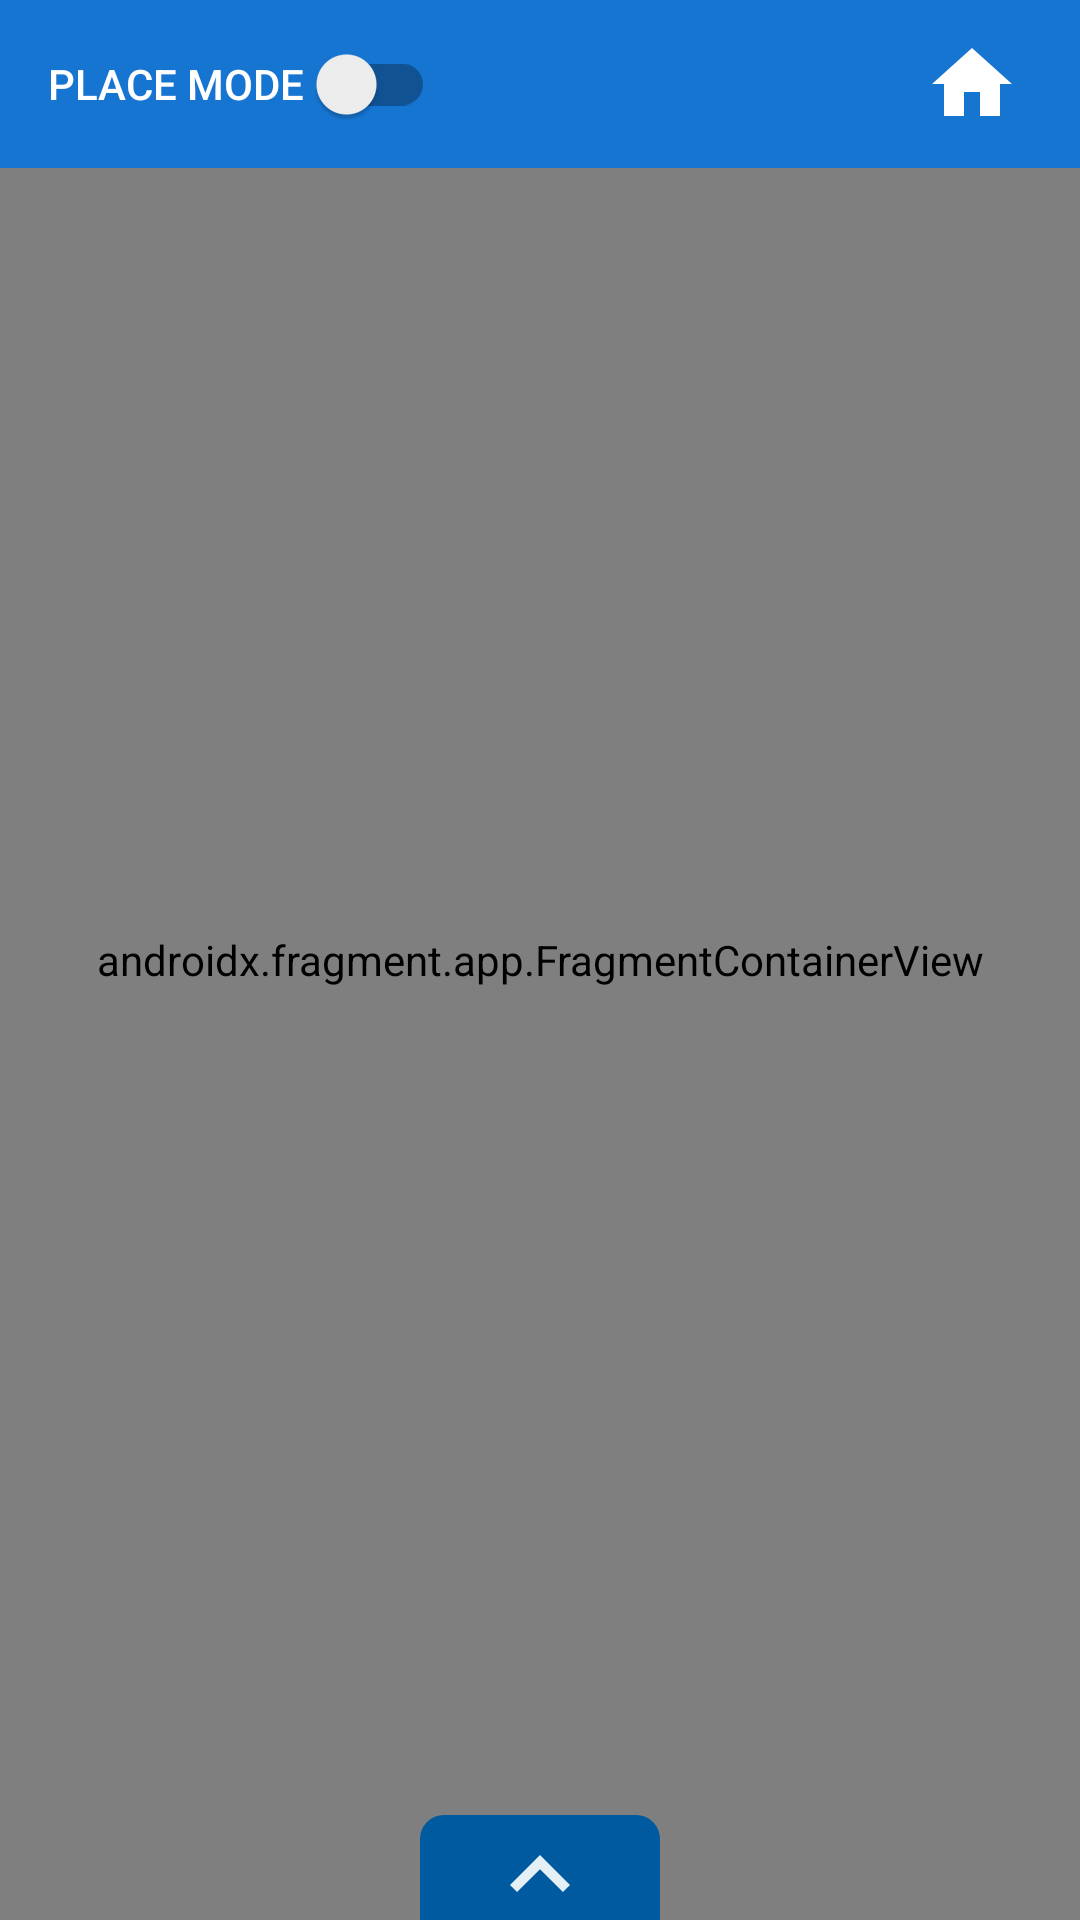

Where to tap for icons on this 1080 x 1920 app screen, as point (x, y):
Home: point (972, 82)
